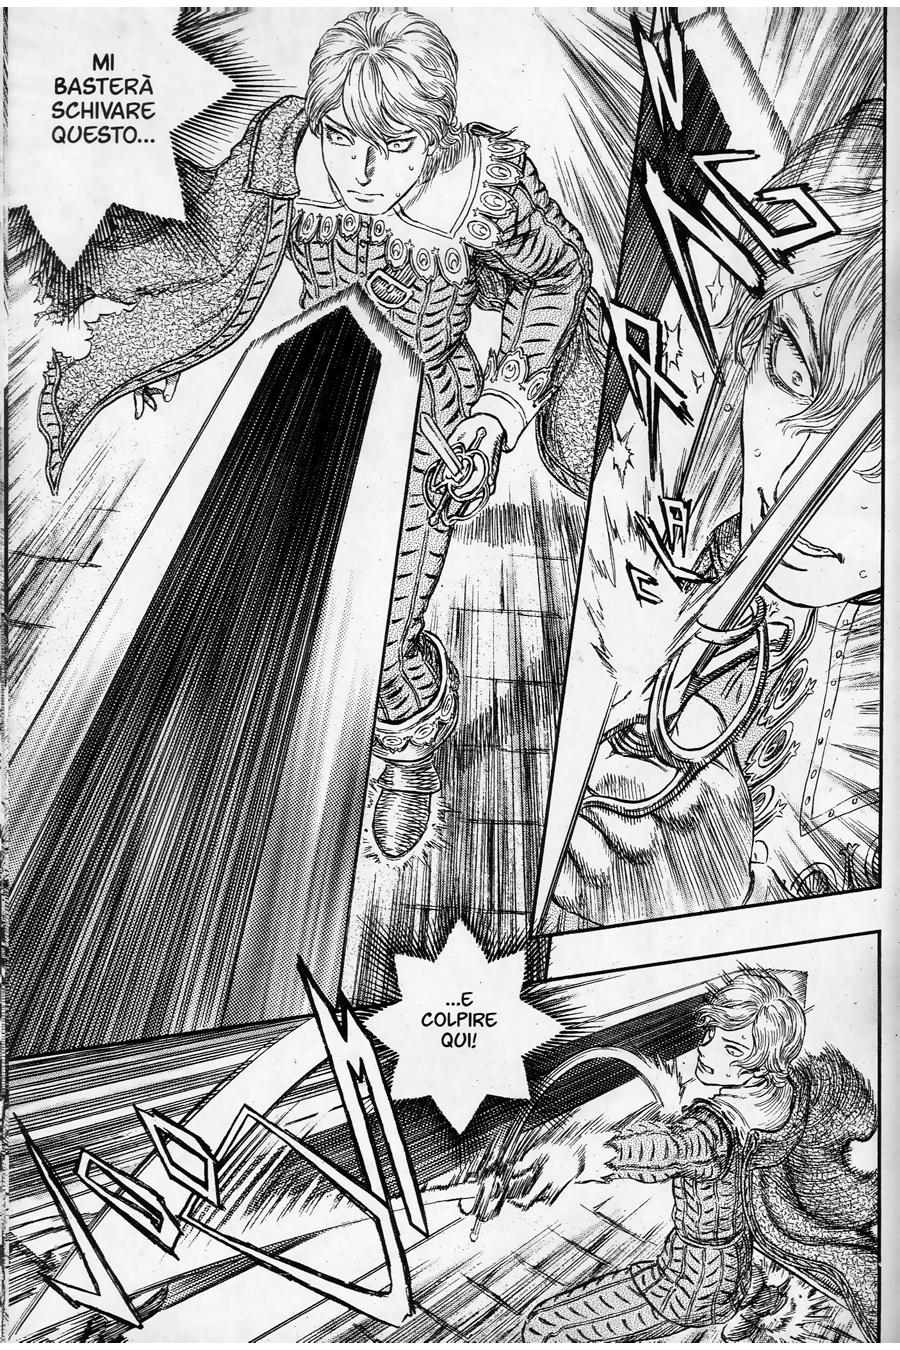Baloon: (8, 11, 238, 268), (367, 915, 567, 1134)
Vignetta: (2, 9, 661, 997), (2, 936, 879, 1350), (528, 7, 895, 930)
